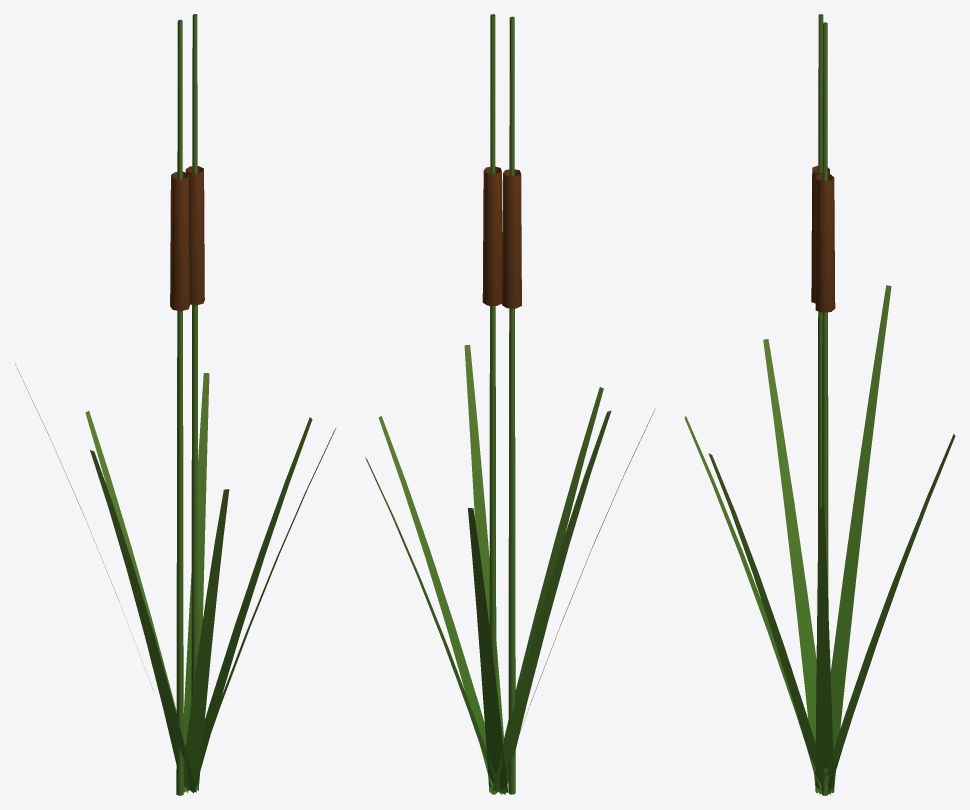
File: Wetland_Cattail.glb
3 views of the same model, side by side, from view 1: azimuth 30°, elevation 25°; view 2: azimuth 150°, elevation 25°; view 3: azimuth 270°, elevation 25° (orthographic).
Parts seen in each view (by area): view 1: Wetland_Cattail; view 2: Wetland_Cattail; view 3: Wetland_Cattail.
Boxes of the visible parts, <box> form: Wetland_Cattail: <box>15,14,335,795</box>; Wetland_Cattail: <box>365,14,655,794</box>; Wetland_Cattail: <box>684,14,955,795</box>.
Bounding box in the file's own units: 0.713 × 2 × 0.6372.
